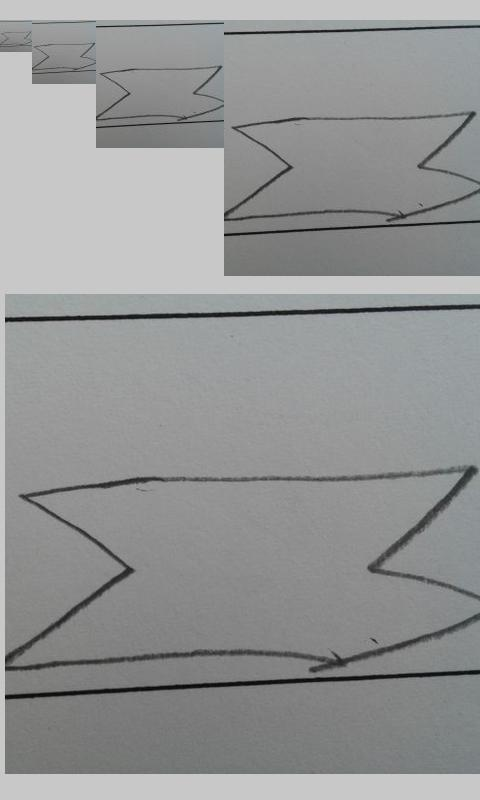edit_text: (4, 466, 480, 666), (226, 111, 480, 218), (97, 65, 224, 119), (33, 43, 96, 70), (1, 31, 31, 44)
